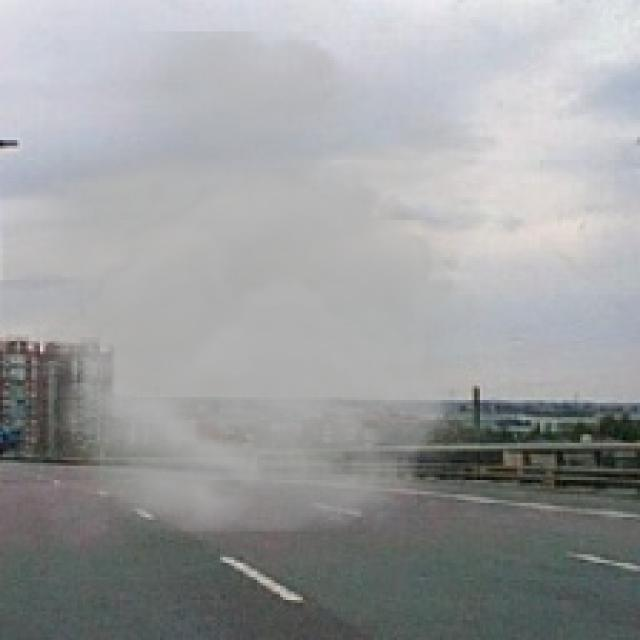smoke: (3, 31, 554, 563)
